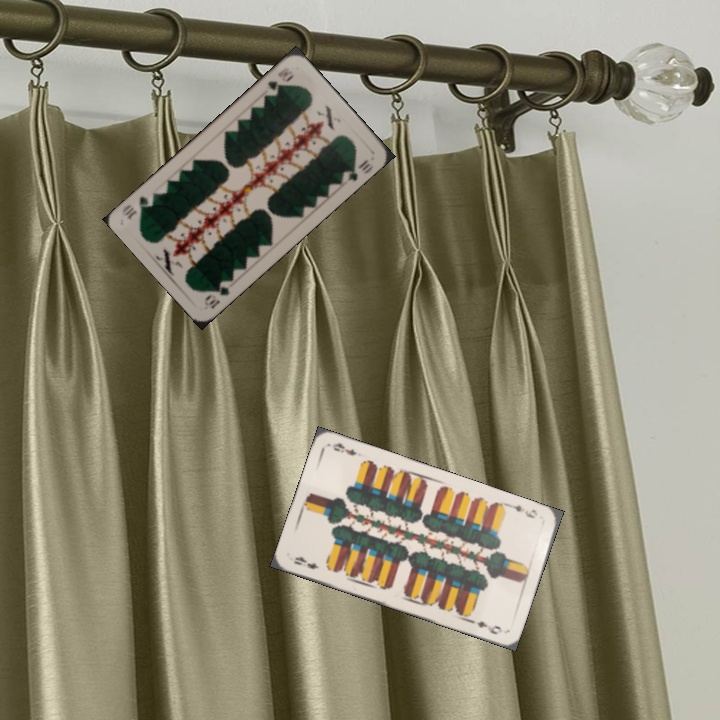E9: (505, 500, 540, 521), (289, 552, 321, 572)
G10: (200, 280, 235, 311), (263, 63, 295, 94)
